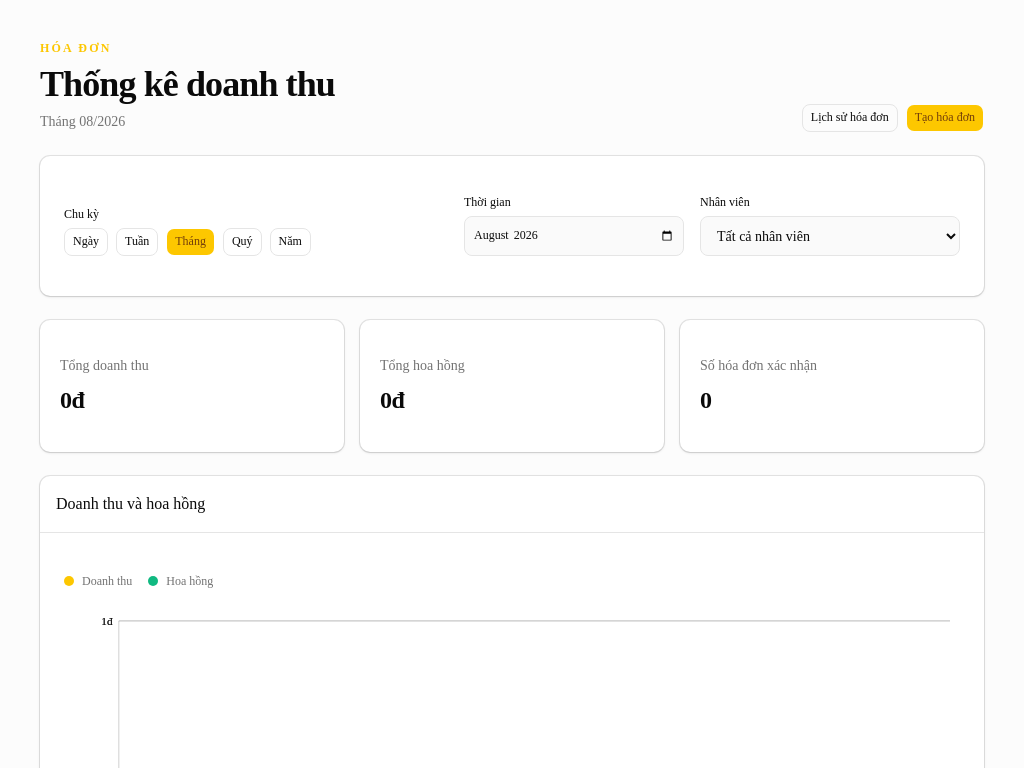
Scenario: StatisticsDashboard › renders empty and error states
This screenshot has width=1024, height=768.
Click the button "Ngày": (86, 242) [64,228,108,256]
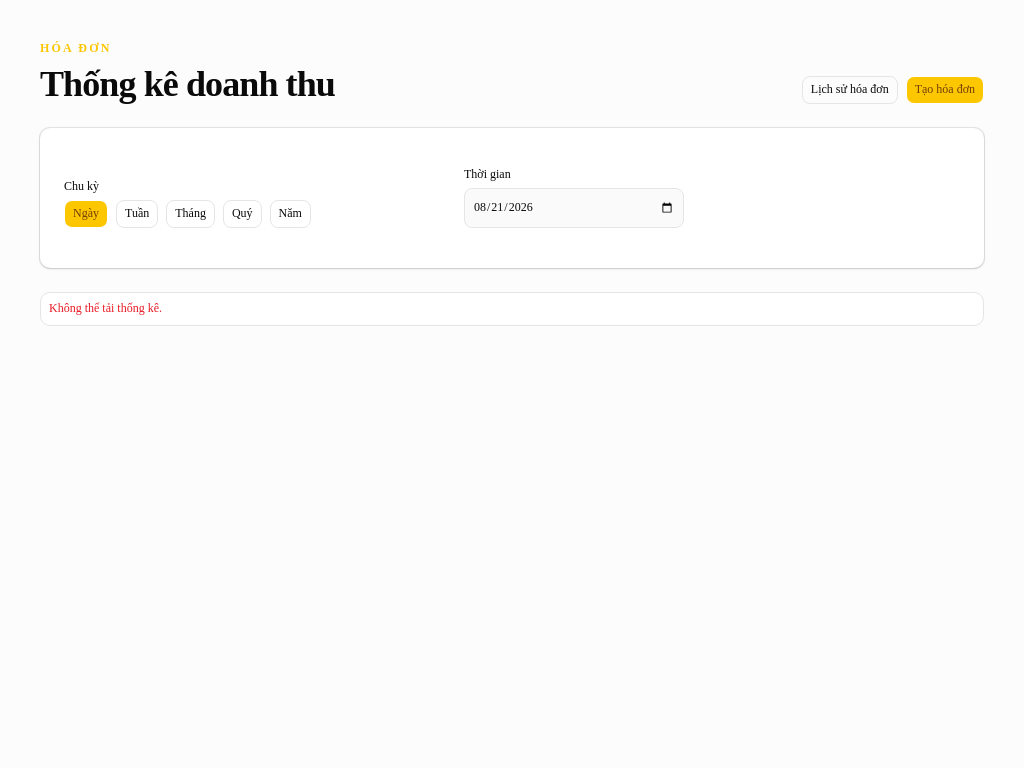
Expected: the text "Không thể tải thống kê." is shown, [49,301,162,315]
Expected: the text "Doanh thu và hoa hồng" is gone
